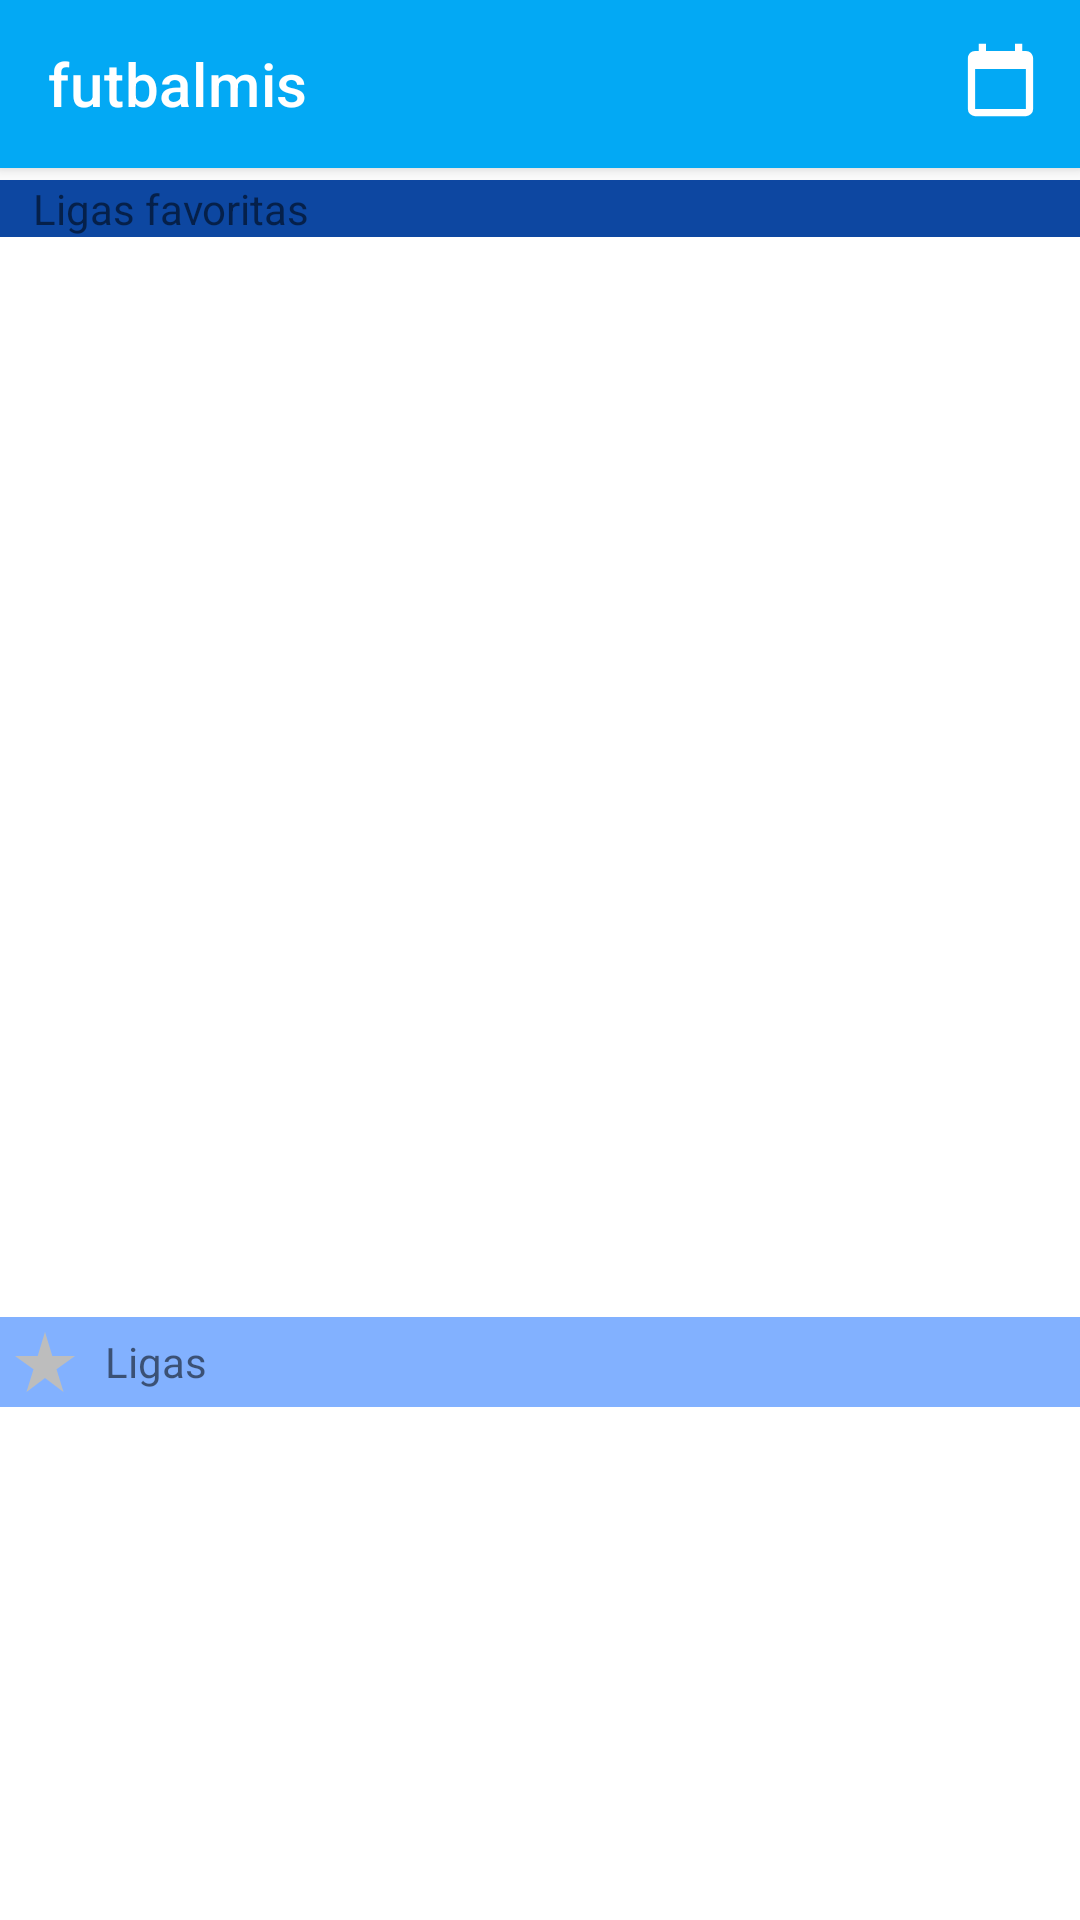

Point at icon controls on the screen. Image size 1080×1920, points as (x,y).
favorito no seleccionado: (45,1362)
